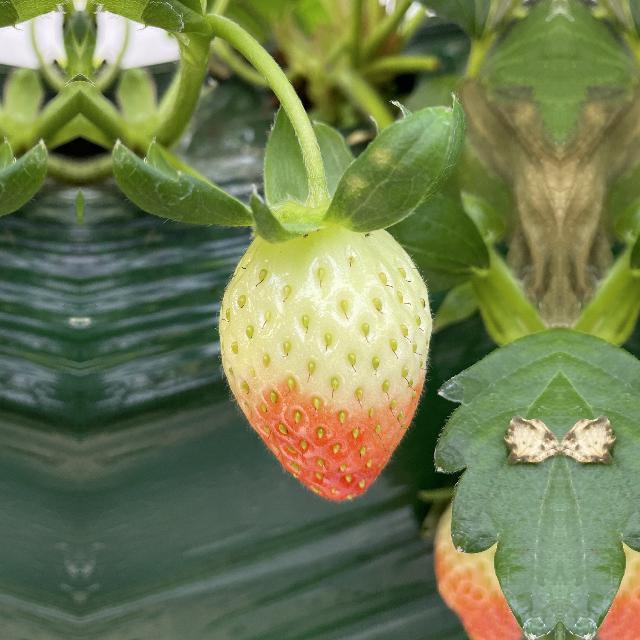Health_50: (214, 213, 441, 511)
